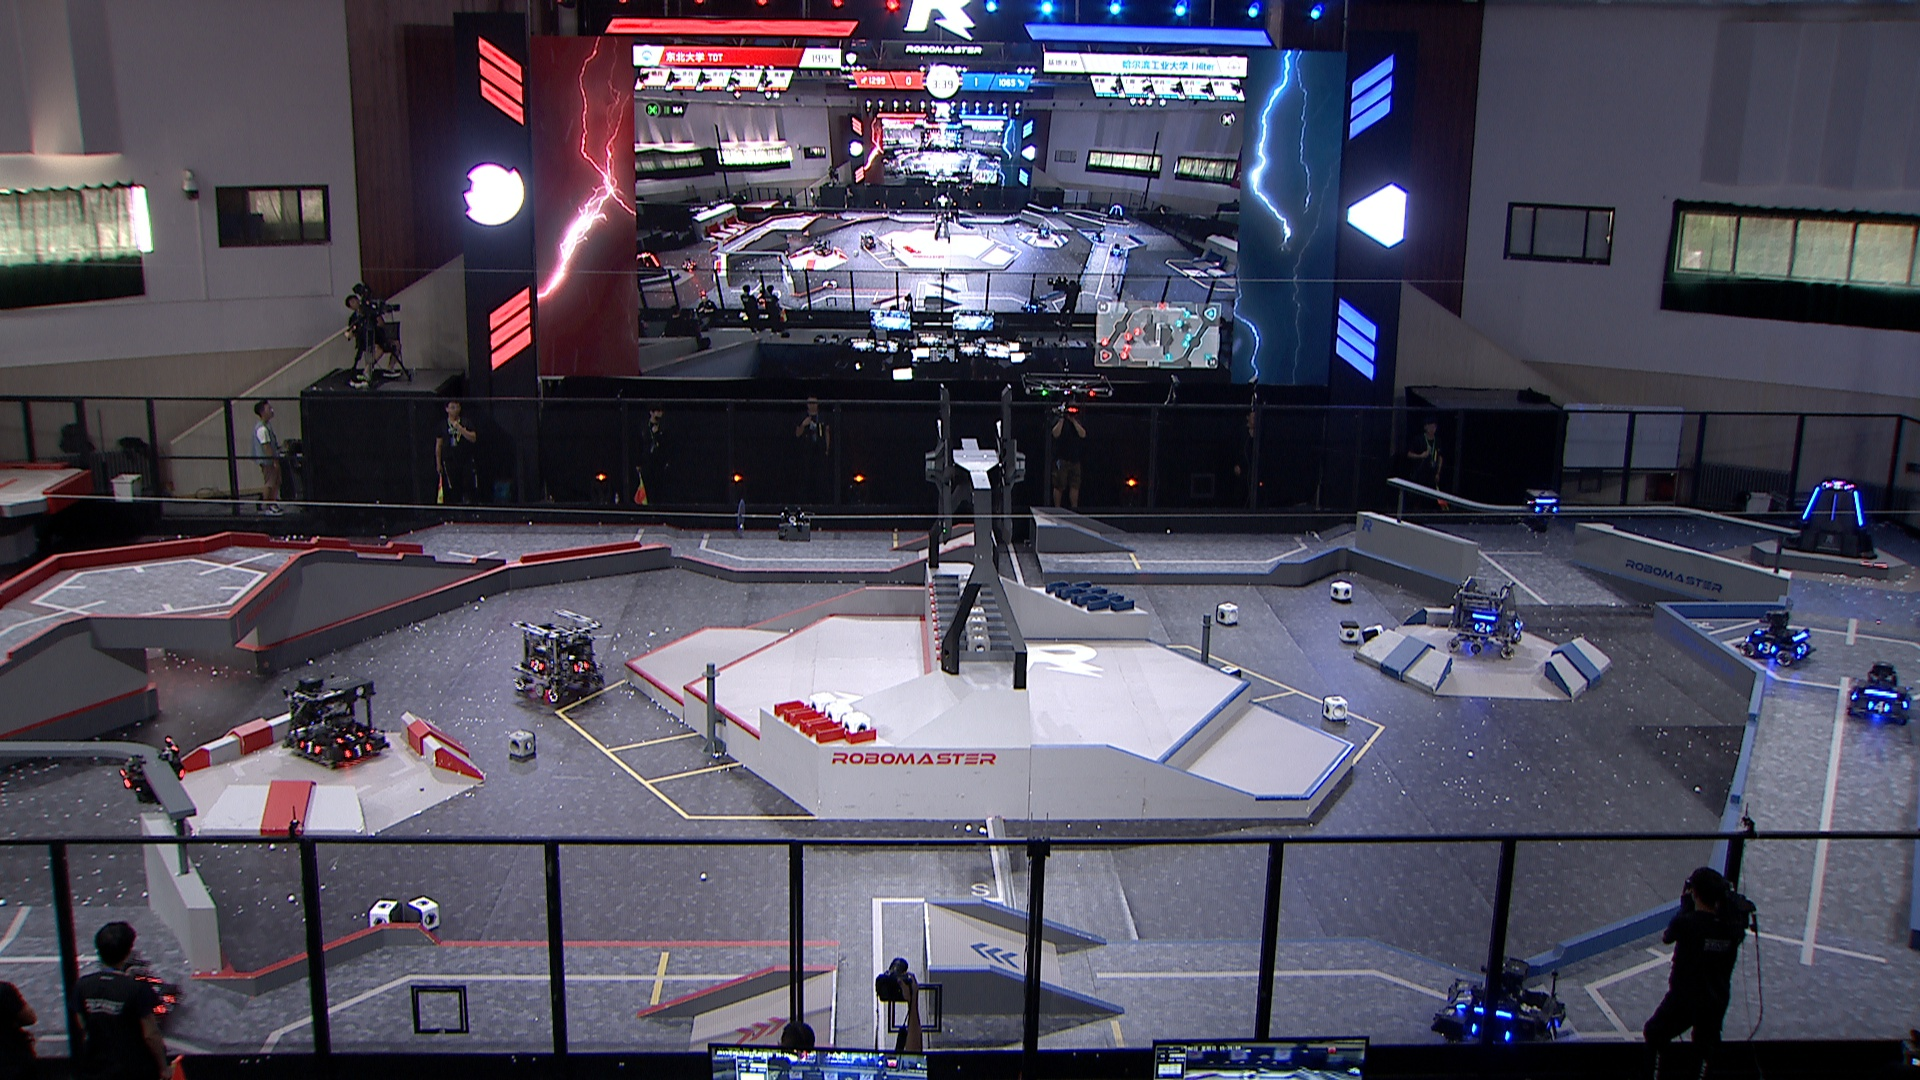armor: (1538, 1015, 1565, 1044), (156, 989, 181, 1019), (1803, 484, 1822, 520), (295, 736, 324, 760), (1452, 986, 1476, 1014), (1865, 695, 1894, 717), (1851, 489, 1866, 531), (334, 727, 367, 744), (345, 742, 376, 761), (1534, 500, 1563, 517), (1755, 638, 1780, 657), (1468, 618, 1493, 636), (527, 655, 549, 675), (1792, 640, 1813, 659), (568, 655, 589, 674), (117, 766, 135, 789), (1826, 495, 1840, 522), (1750, 621, 1768, 638)
base: (1776, 477, 1882, 562)
car: (1429, 953, 1572, 1059), (280, 669, 392, 769), (508, 605, 608, 708), (80, 945, 182, 1034), (1443, 575, 1527, 659), (1737, 603, 1816, 666), (1842, 659, 1915, 723)
ignore: (636, 251, 670, 281), (811, 235, 833, 257), (1825, 479, 1855, 495), (1106, 200, 1127, 223), (1022, 295, 1048, 313), (858, 232, 880, 253), (1106, 239, 1125, 258), (680, 253, 699, 272), (1035, 222, 1051, 243)
watcher: (115, 731, 186, 806), (1523, 488, 1565, 531)
